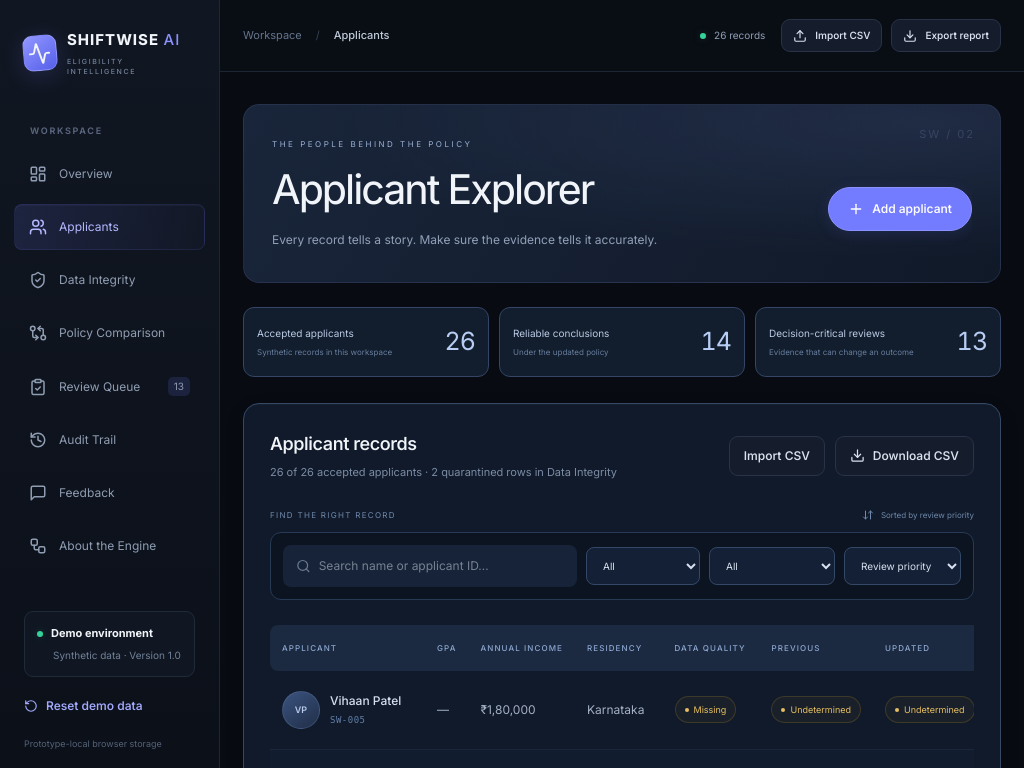
Test: Integrated application workflows › adds an applicant and persists an uncertain outcome when evidence is absent
Click the button "Add applicant" at coordinates (900, 209), box [828,187,972,231]
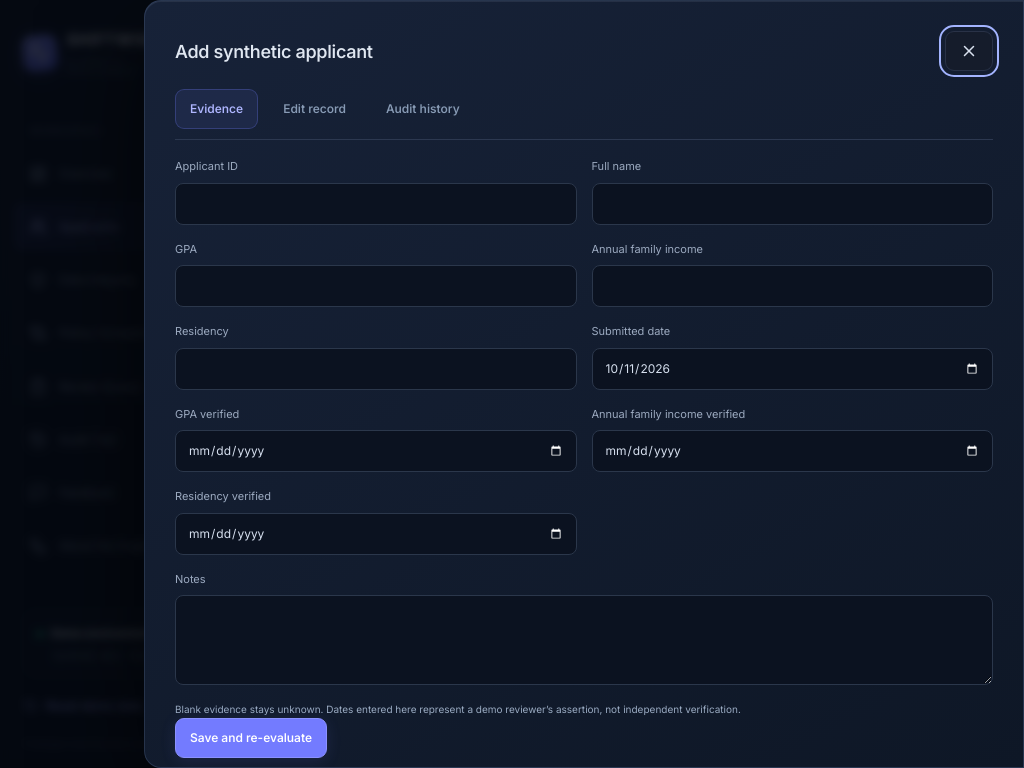
Type "TEST-001" into the field labelled "Applicant ID" at coordinates (376, 204), box [175,182,576,224]
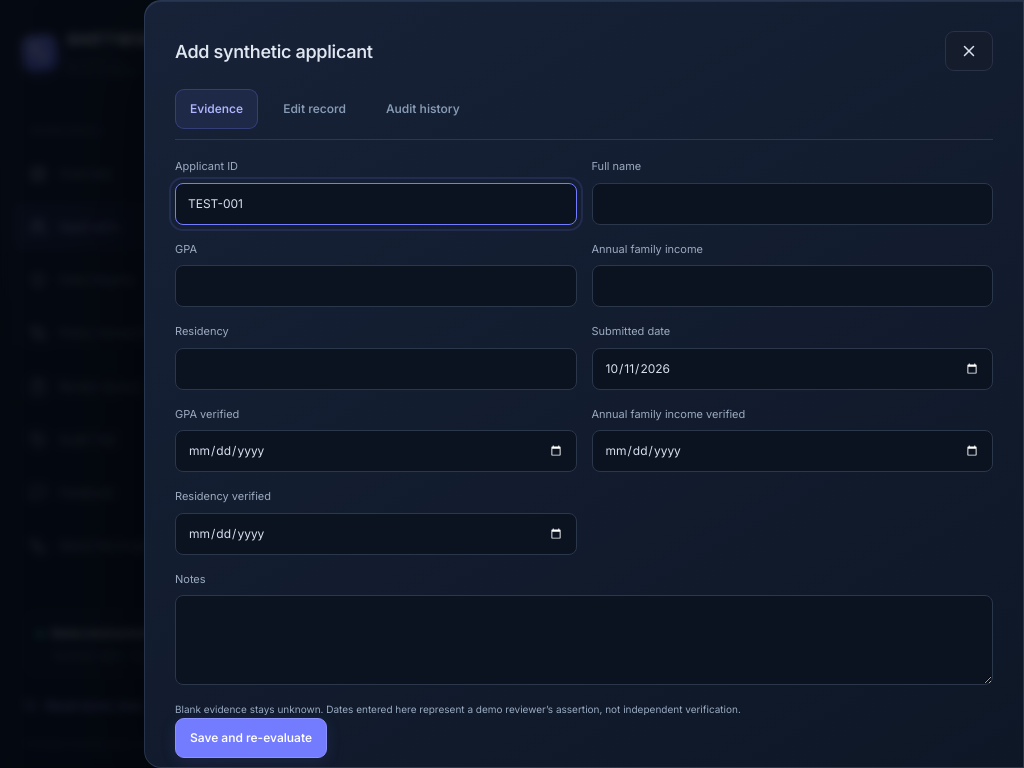
Type "Test Person" into the field labelled "Full name" at coordinates (792, 204), box [592,182,993,224]
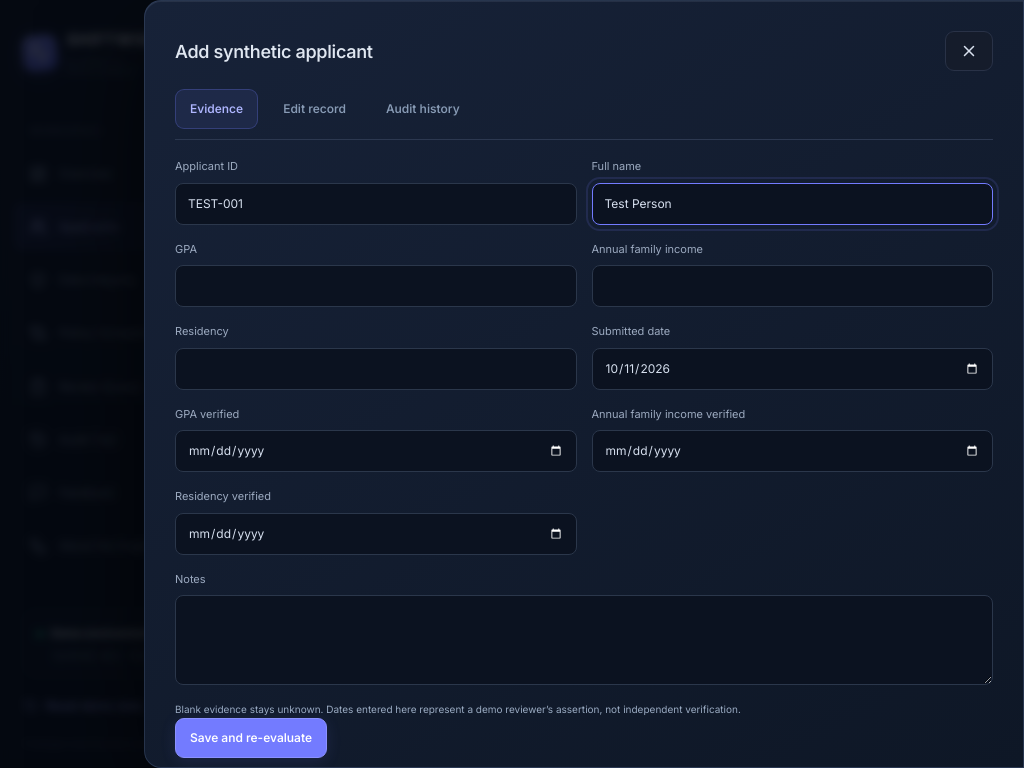
Click the button "Save and re-evaluate" at coordinates (251, 738), box [175,718,327,758]
(page scrolled)
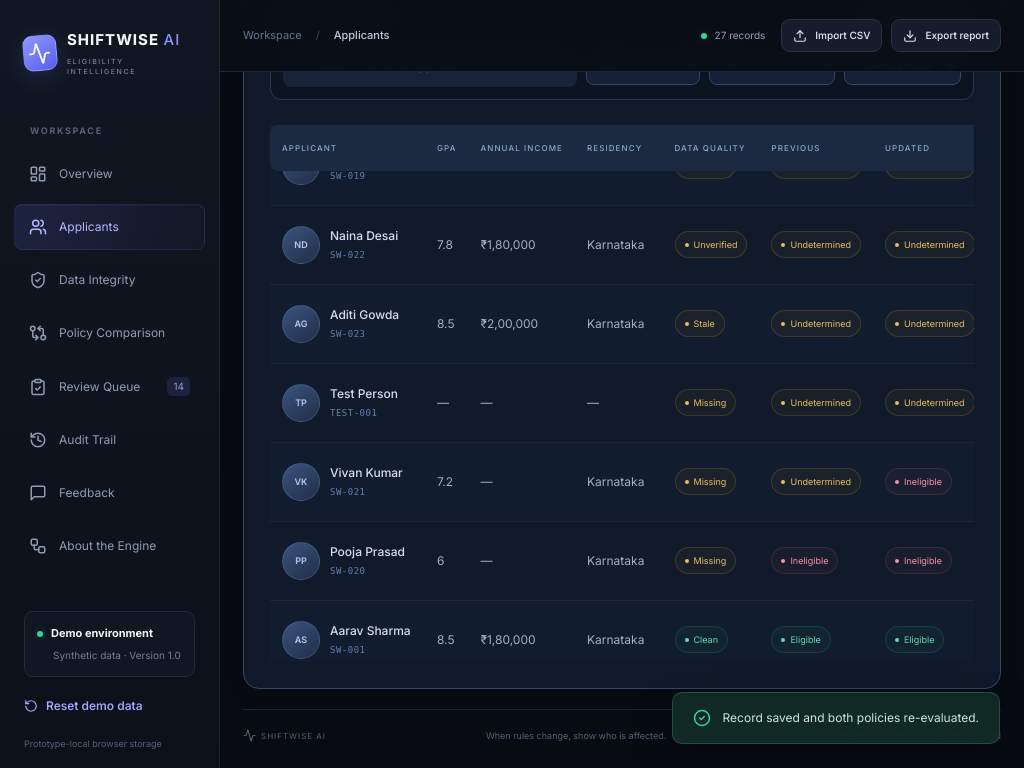
Expected: the text "Test Person" is shown, [330,385,398,403]
